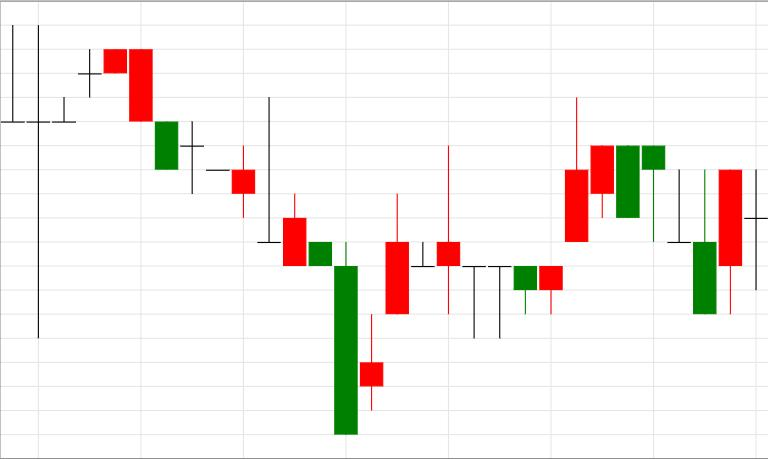bearish_engulfing_fall: (514, 97, 639, 315)
hanging_man_fall: (514, 97, 664, 316)
